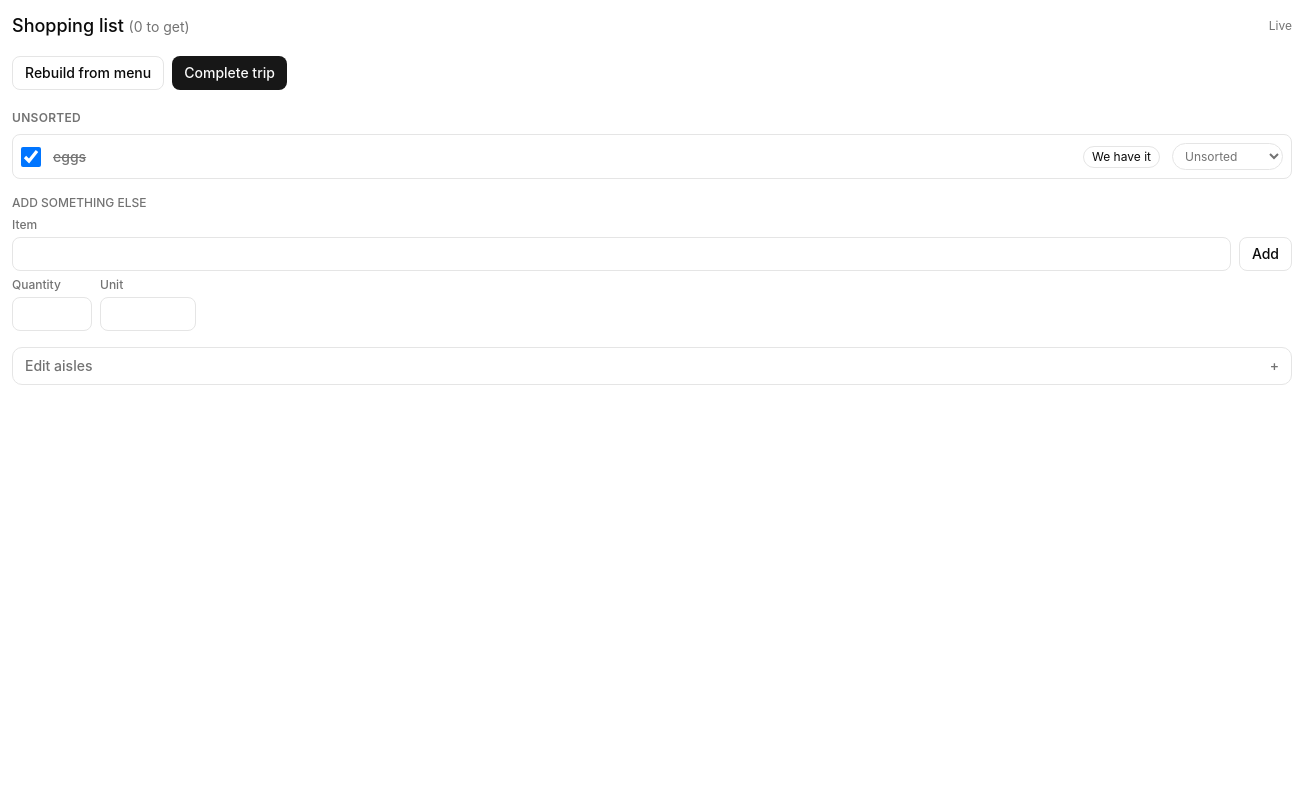
Test: GroceryList — promoting staples after a trip › keeps EVERY candidate when the whole batch fails before any write
Click the button "Complete trip" at x=230, y=73, box [172,56,287,90]
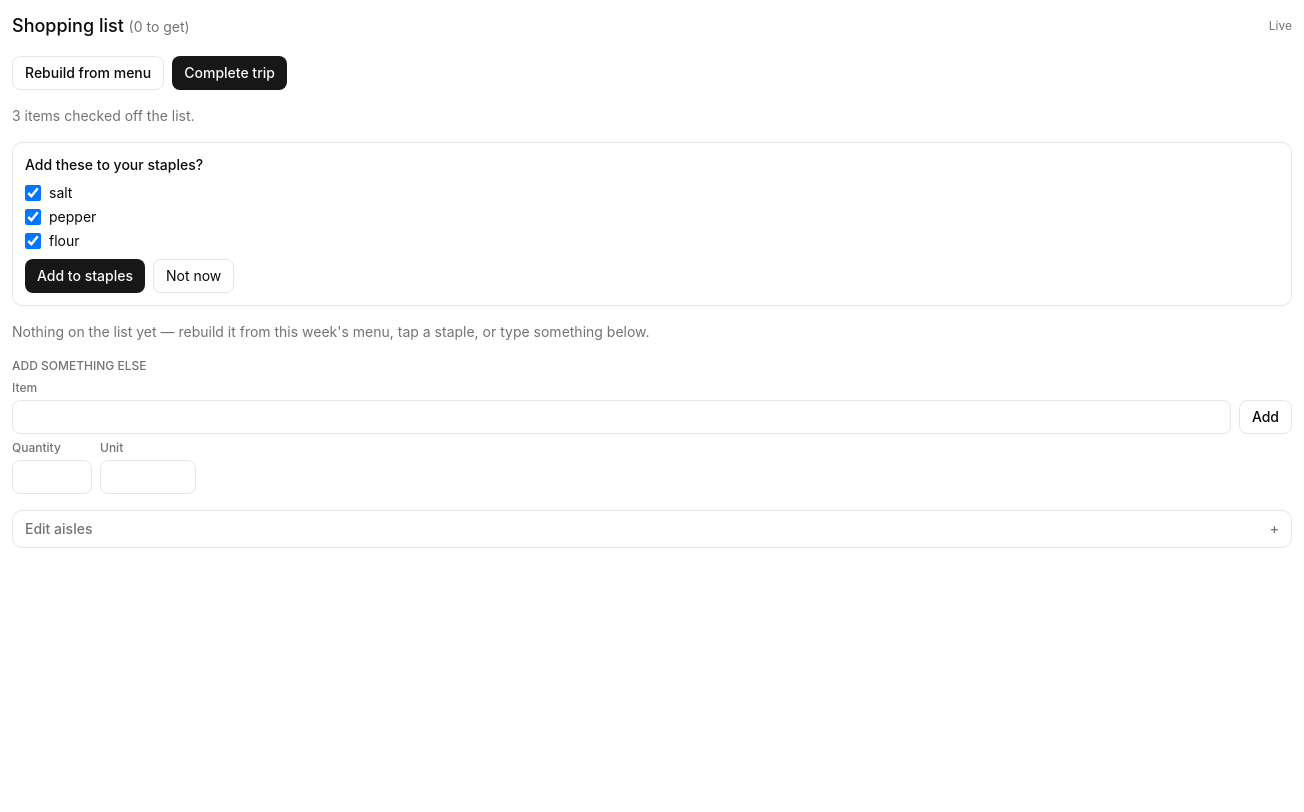
Expected: the element with test id "promotion-prompt" is shown, [12,142,1292,306]
Click the button "Add to staples" at x=85, y=276, box [25,259,145,293]
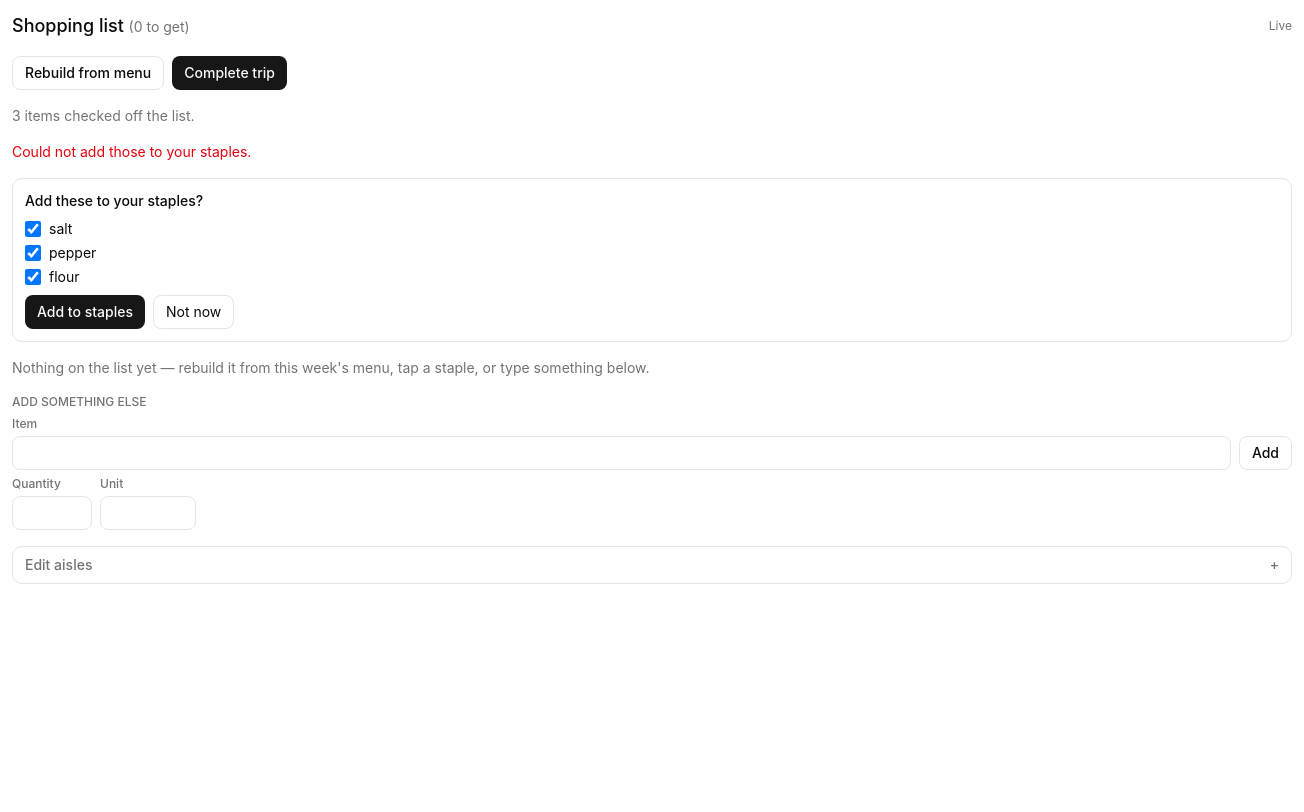
Expected: the message "Could not add those to your staples." is shown, [12,143,251,160]
